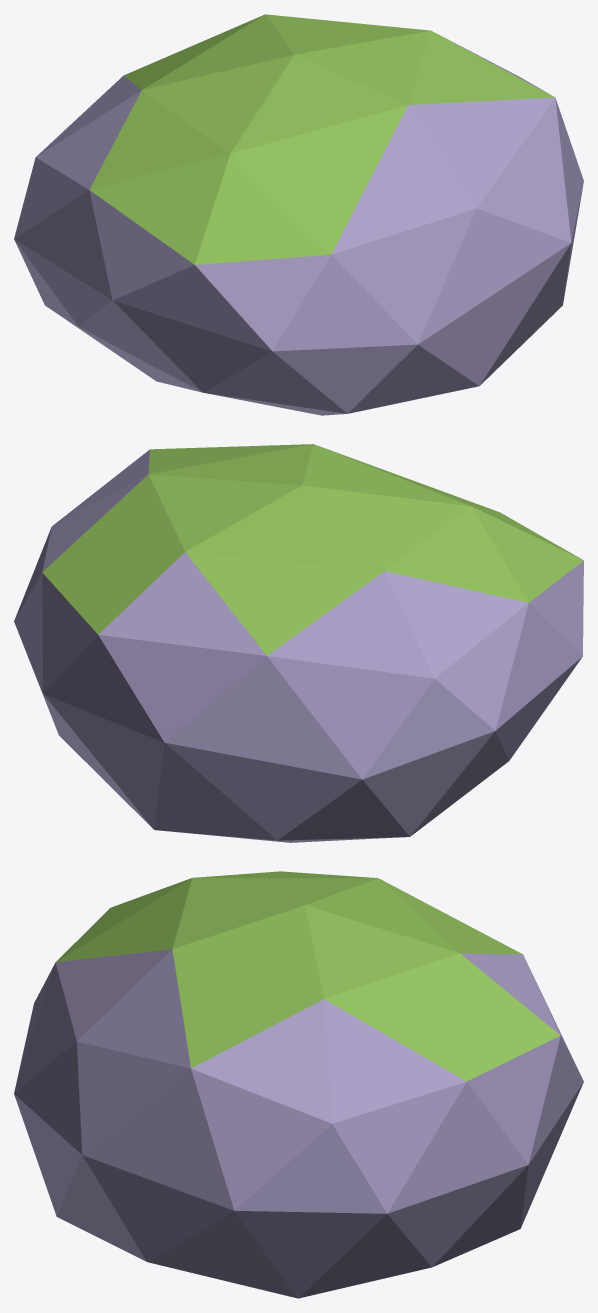
File: boulder_b.glb
3 views of the same model, one above another, from view 1: azimuth 30°, elevation 25°; view 2: azimuth 150°, elevation 25°; view 3: azimuth 270°, elevation 25° (orthographic). The views are drawn at different scales.
Visible parts, largest first — view 1: boulder_b; view 2: boulder_b; view 3: boulder_b.
Part boxes in pixels (x1,y1,x2,y2): boulder_b: (14,14,583,415); boulder_b: (14,444,583,842); boulder_b: (14,871,583,1298).
Size of the model in its own units: 8.45 by 4.88 by 8.
